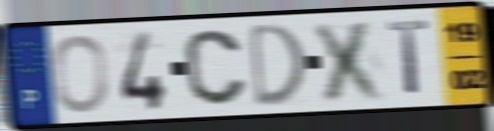4: (118, 28, 169, 114)
C: (181, 27, 251, 108)
D: (246, 19, 308, 111)
O: (50, 32, 111, 115)
T: (384, 17, 432, 98)
X: (309, 17, 391, 104)
